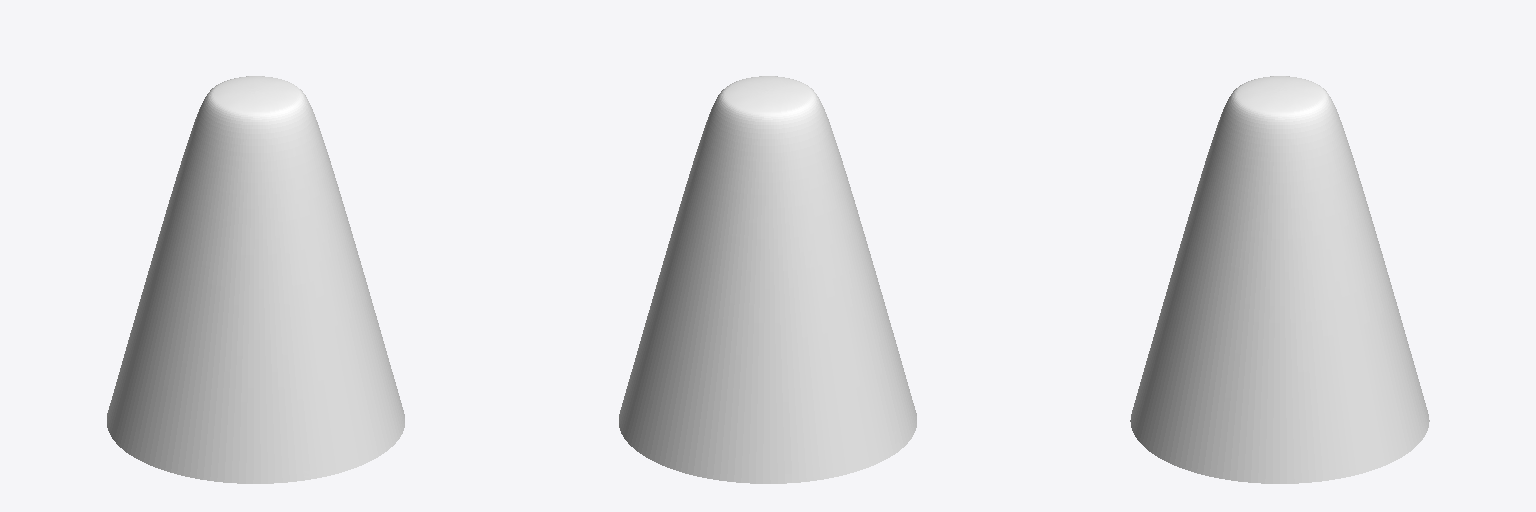
File: UWeEHHHEATRYeobj.obj
3 views of the same model, side by side, from view 1: azimuth 30°, elevation 25°; view 2: azimuth 150°, elevation 25°; view 3: azimuth 270°, elevation 25° (orthographic).
Parts seen in each view (by area): view 1: 17414_Floor_cone_mandrel_v1_NEW_Default_OBJ; view 2: 17414_Floor_cone_mandrel_v1_NEW_Default_OBJ; view 3: 17414_Floor_cone_mandrel_v1_NEW_Default_OBJ.
Part boxes in pixels (bbox=[...]): 17414_Floor_cone_mandrel_v1_NEW_Default_OBJ: bbox=[107, 76, 404, 483]; 17414_Floor_cone_mandrel_v1_NEW_Default_OBJ: bbox=[619, 76, 916, 483]; 17414_Floor_cone_mandrel_v1_NEW_Default_OBJ: bbox=[1130, 76, 1429, 483].
Size of the model in its own units: 5.65 by 6.87 by 5.65.